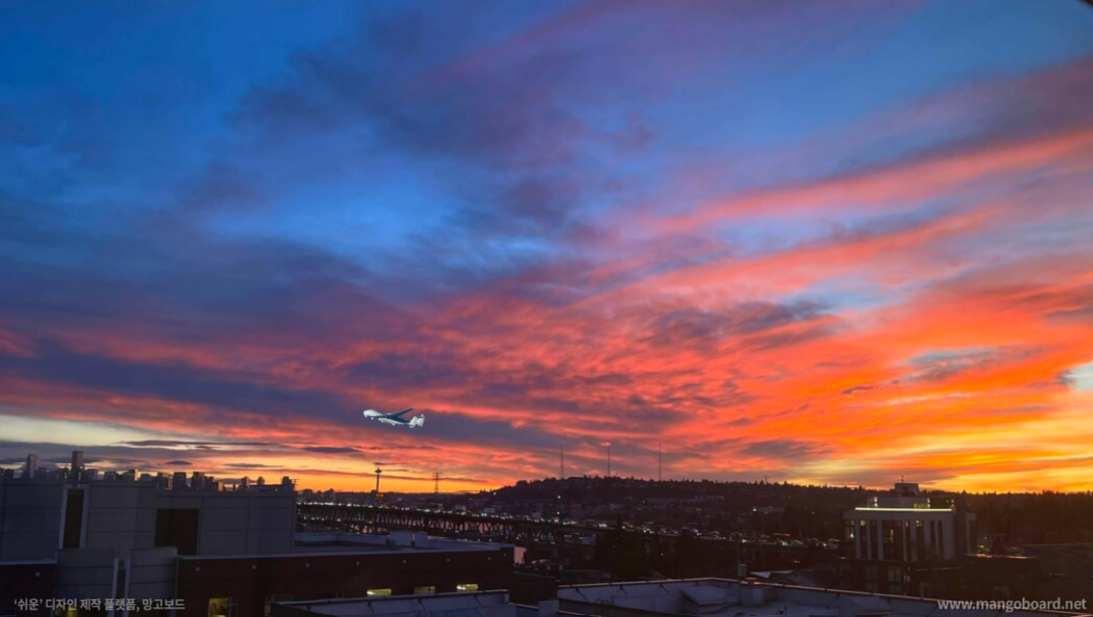military drone: (362, 408, 425, 428)
